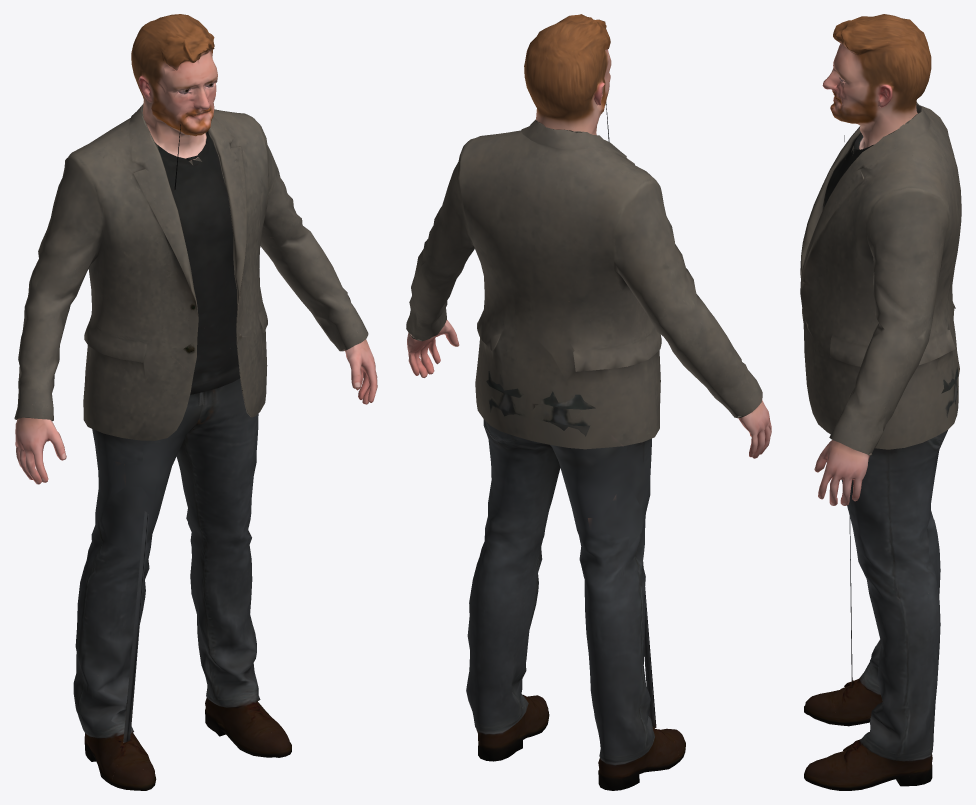
Rendered from evan-mckay.glb.
3 renders of one model, left to right at view 1: azimuth 30°, elevation 25°; view 2: azimuth 150°, elevation 25°; view 3: azimuth 270°, elevation 25°, orthographic.
Visible parts, largest first — view 1: geometry_0; view 2: geometry_0; view 3: geometry_0.
Boxes of the visible parts, x1,y1,x2,y2 form: geometry_0: (14, 14, 377, 790); geometry_0: (406, 14, 771, 790); geometry_0: (800, 14, 961, 790).
Bounding box in the file's own units: 0.478 × 0.9502 × 0.1899.
Materials: 1 (1 with a texture image).
